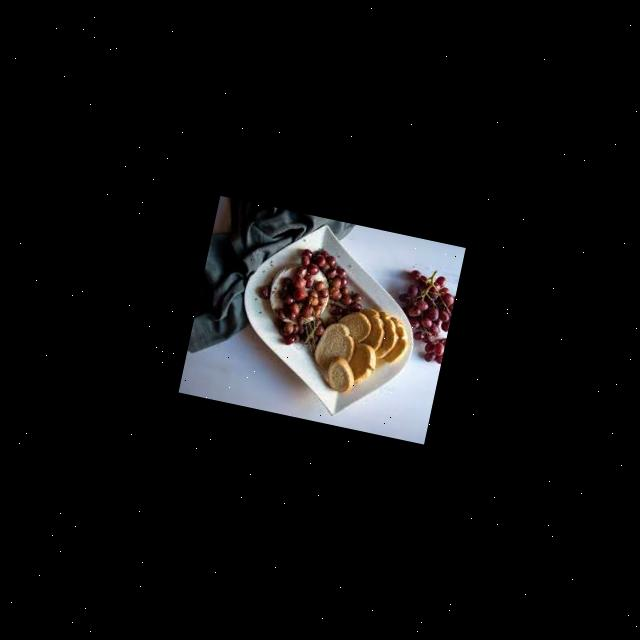grape: (385, 263, 458, 364)
